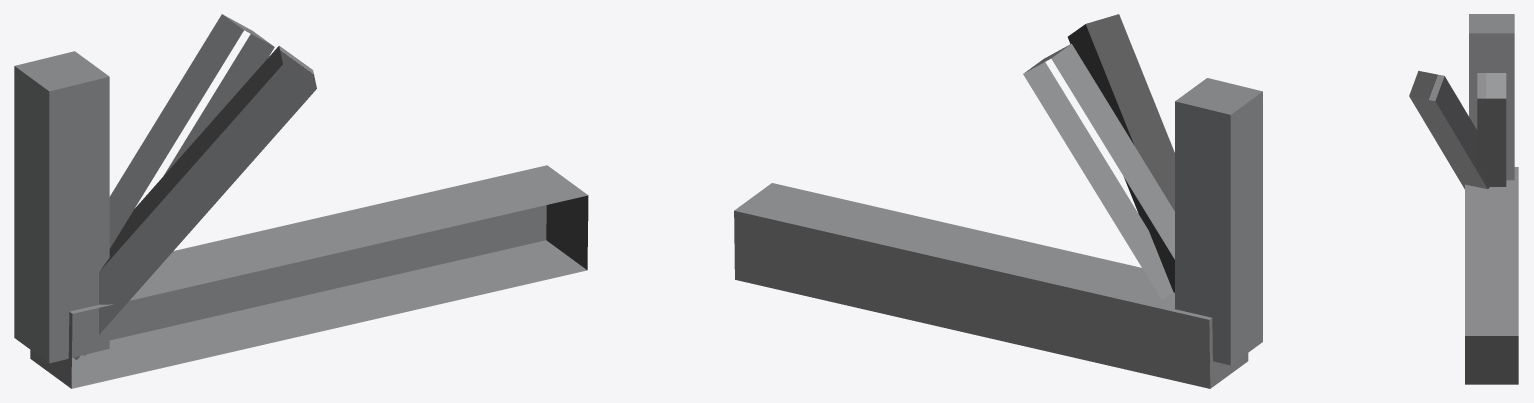
3 renders of one model, left to right at view 1: azimuth 30°, elevation 25°; view 2: azimuth 150°, elevation 25°; view 3: azimuth 270°, elevation 25°, orthographic. The views are drawn at different scales.
Bounding box in the file's own units: 0.5004 × 0.274 × 0.276.
